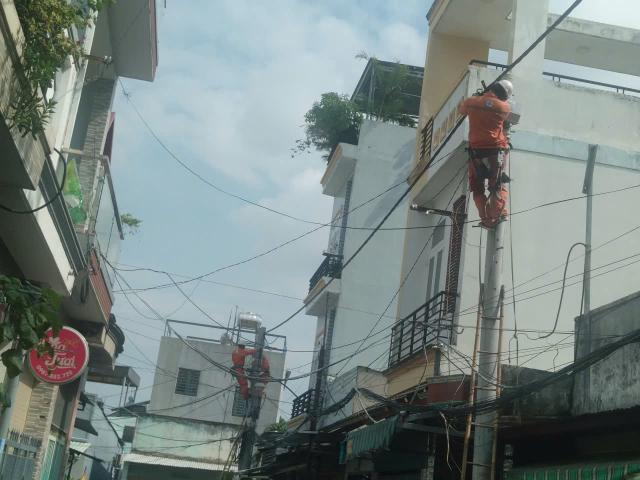harness: (464, 143, 507, 158), (232, 363, 246, 370)
helmet: (493, 74, 518, 99), (237, 339, 248, 346)
shoes: (478, 218, 496, 234)
